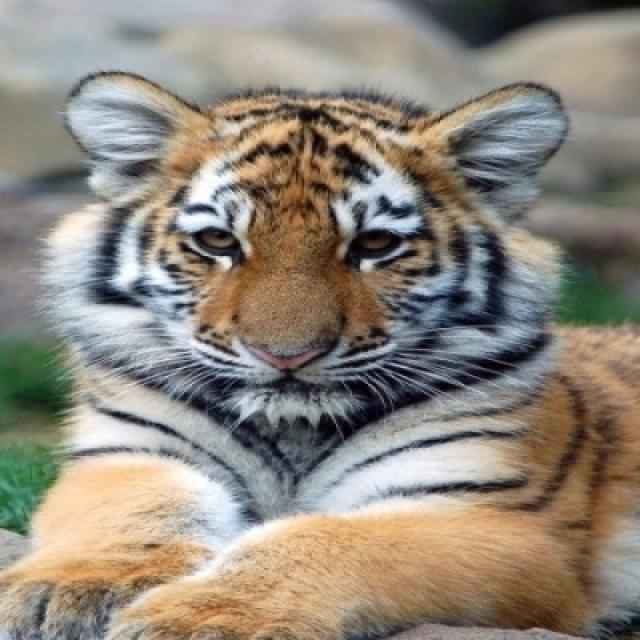Tiger: (0, 72, 638, 638)
